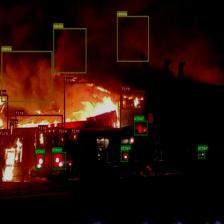fire: (64, 82, 121, 129), (0, 134, 23, 182), (15, 114, 62, 129), (122, 90, 144, 110), (0, 94, 8, 131), (38, 129, 45, 147), (58, 133, 64, 144), (10, 124, 13, 141), (72, 132, 76, 140)
smoke: (1, 51, 52, 102), (53, 28, 86, 73), (117, 16, 149, 61)
